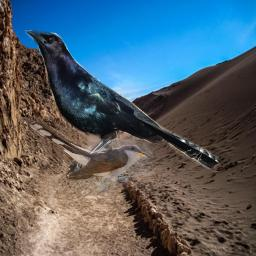Crow: (25, 30, 219, 180)
Cuckoo: (28, 116, 153, 196)
